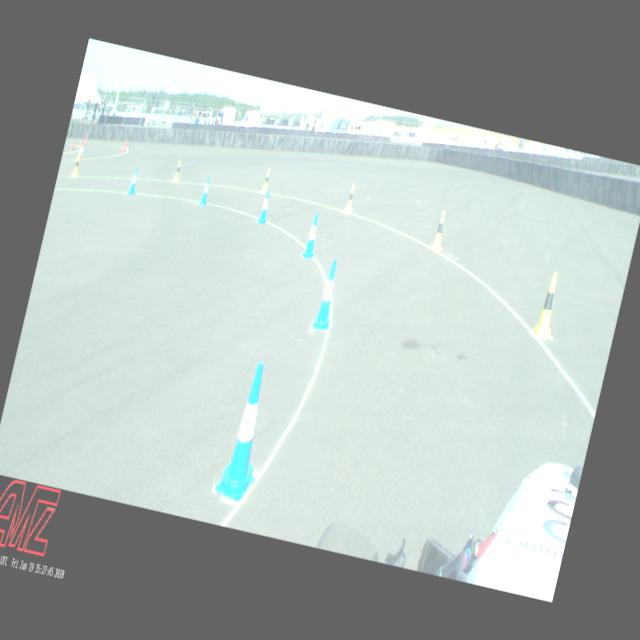blue_cone: (212, 358, 280, 504), (312, 258, 344, 330), (302, 211, 322, 259), (257, 187, 273, 224), (198, 174, 212, 206), (127, 166, 140, 195)
orange_cone: (77, 144, 84, 160)
unknown_cone: (69, 138, 75, 152), (120, 142, 126, 155), (78, 136, 83, 147), (125, 137, 128, 148), (85, 132, 88, 142)
yellow_cone: (530, 270, 563, 340), (429, 210, 448, 250), (344, 182, 357, 212), (172, 158, 183, 182), (261, 168, 272, 192), (71, 154, 82, 177)
